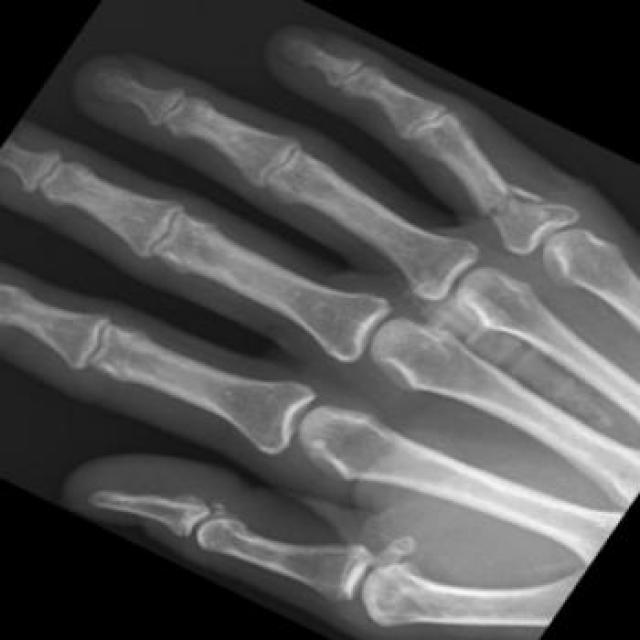Fracture: (474, 173, 544, 230)
